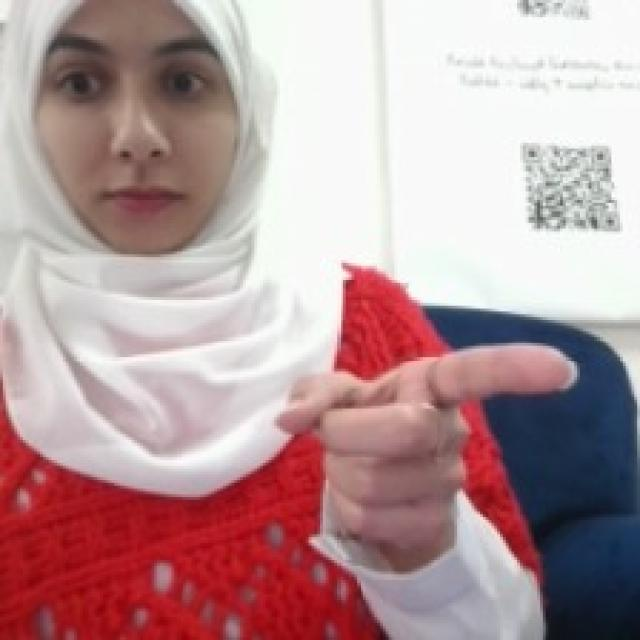you: (268, 340, 583, 551)
